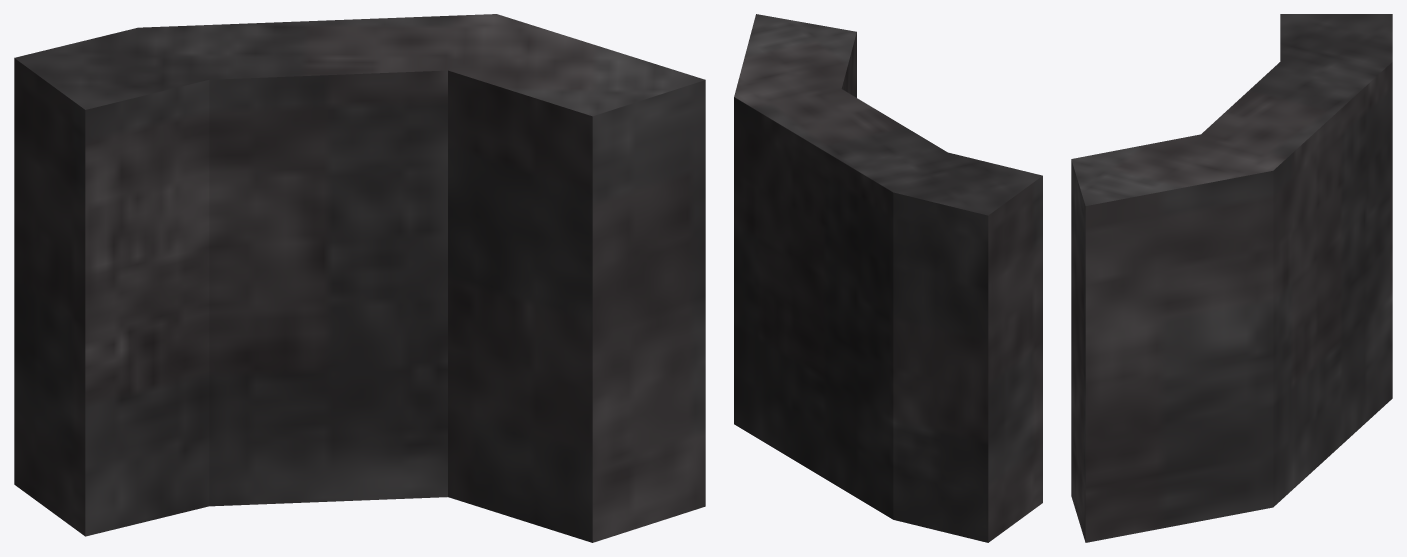
The model's file is balk_19.glb.
3 renders of one model, left to right at view 1: azimuth 30°, elevation 25°; view 2: azimuth 150°, elevation 25°; view 3: azimuth 270°, elevation 25°, orthographic. The views are drawn at different scales.
Visible parts, largest first — view 1: Куб.014; view 2: Куб.014; view 3: Куб.014.
Boxes of the visible parts, left/top/right/bottom form: Куб.014: left=14, top=14, right=705, bottom=542; Куб.014: left=734, top=14, right=1042, bottom=542; Куб.014: left=1071, top=14, right=1392, bottom=542.
Bounding box in the file's own units: 3.06 × 2.51 × 2.17.
1 material, 1 textured.
